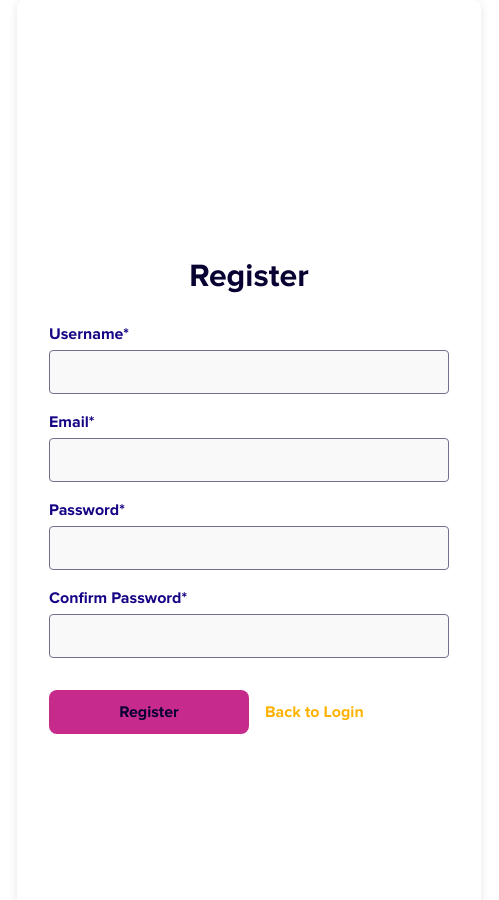
Test case: Register Component › displays error message on registration failure
Type "testuser" into the field labelled "Username*" at (249, 372), box 49,350 -> 449,394
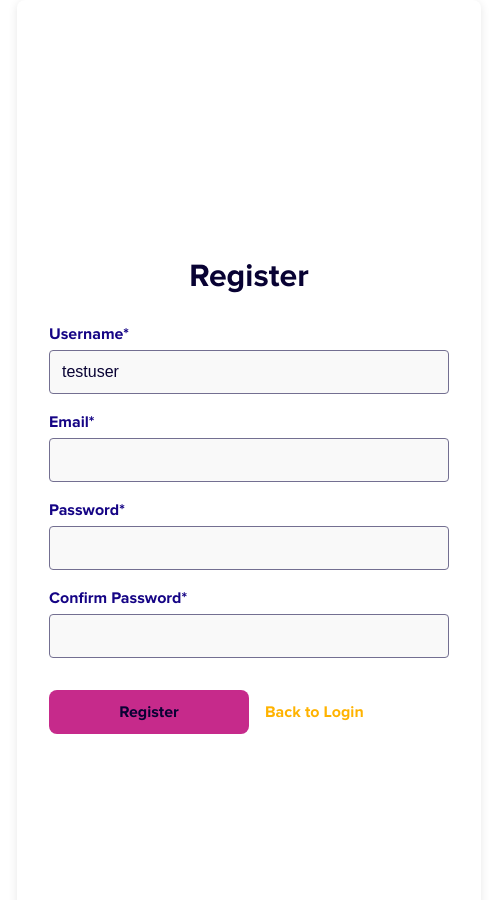
Type "test@example.com" into the field labelled "Email*" at (249, 460), box 49,438 -> 449,482
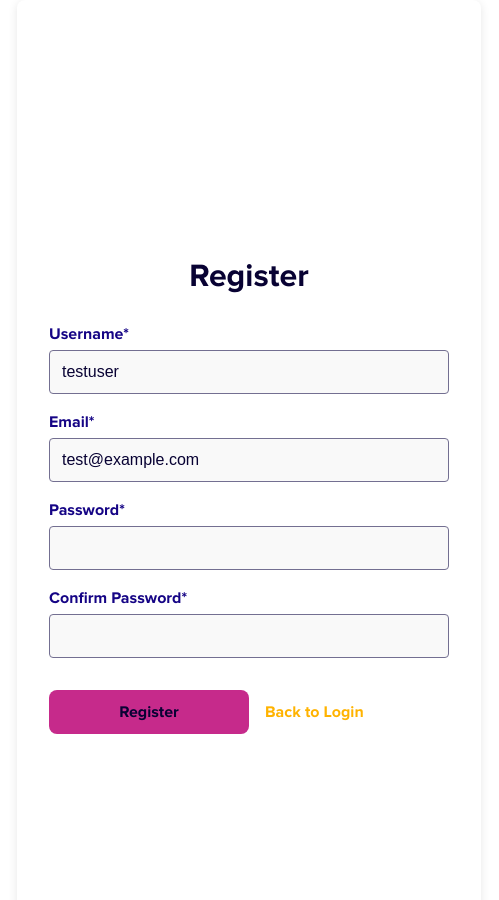
Type "password123" into the password field labelled "Password*" at (249, 548), box 49,526 -> 449,570
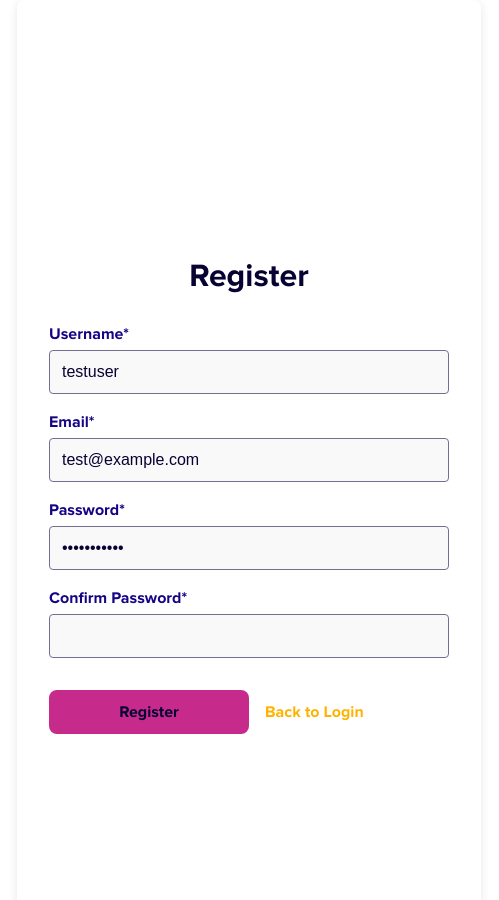
Type "password123" into the password field labelled "Confirm Password*" at (249, 636), box 49,614 -> 449,658
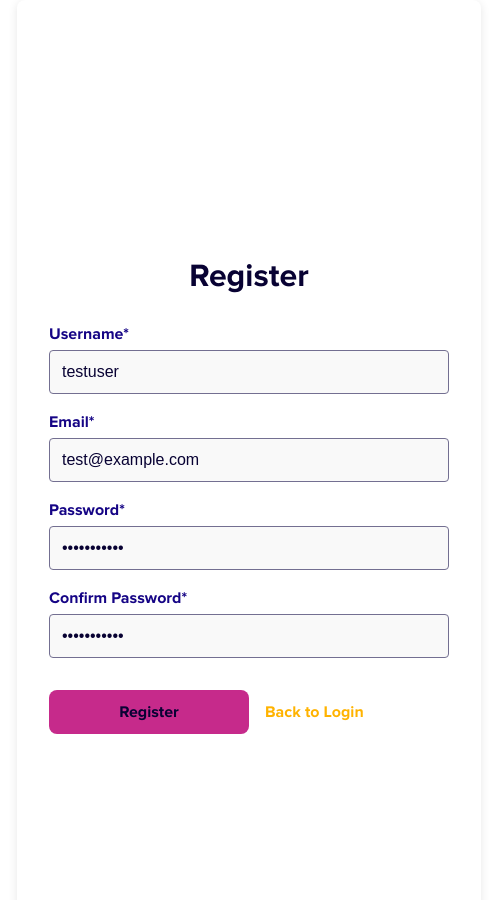
Click the button "Register" at (149, 712), box 49,690 -> 249,734
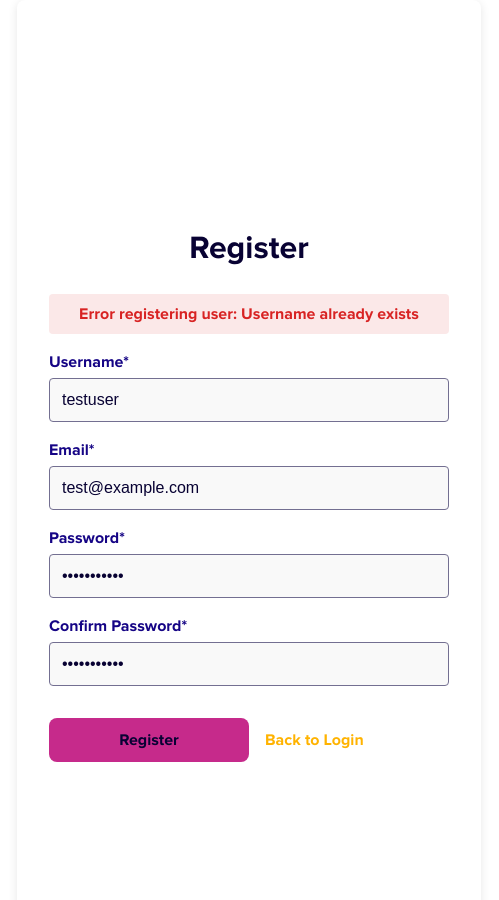
Result: the text "Error registering user: Username already exists" is shown at 49,294 -> 449,334
